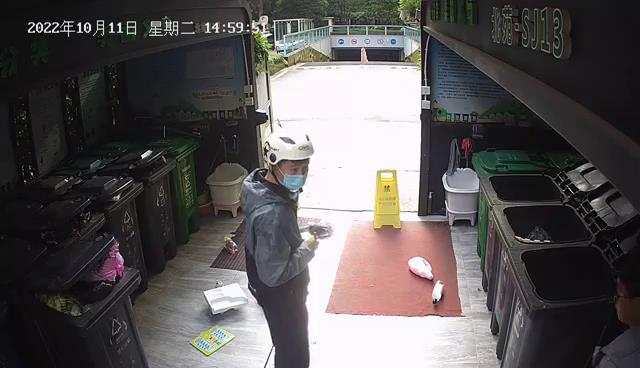paomozhipin: (202, 282, 249, 315)
person: (237, 126, 334, 368)
suliaozhipin: (407, 255, 434, 280), (222, 231, 238, 255), (431, 278, 445, 304)
zhizhipin: (189, 323, 235, 357)
